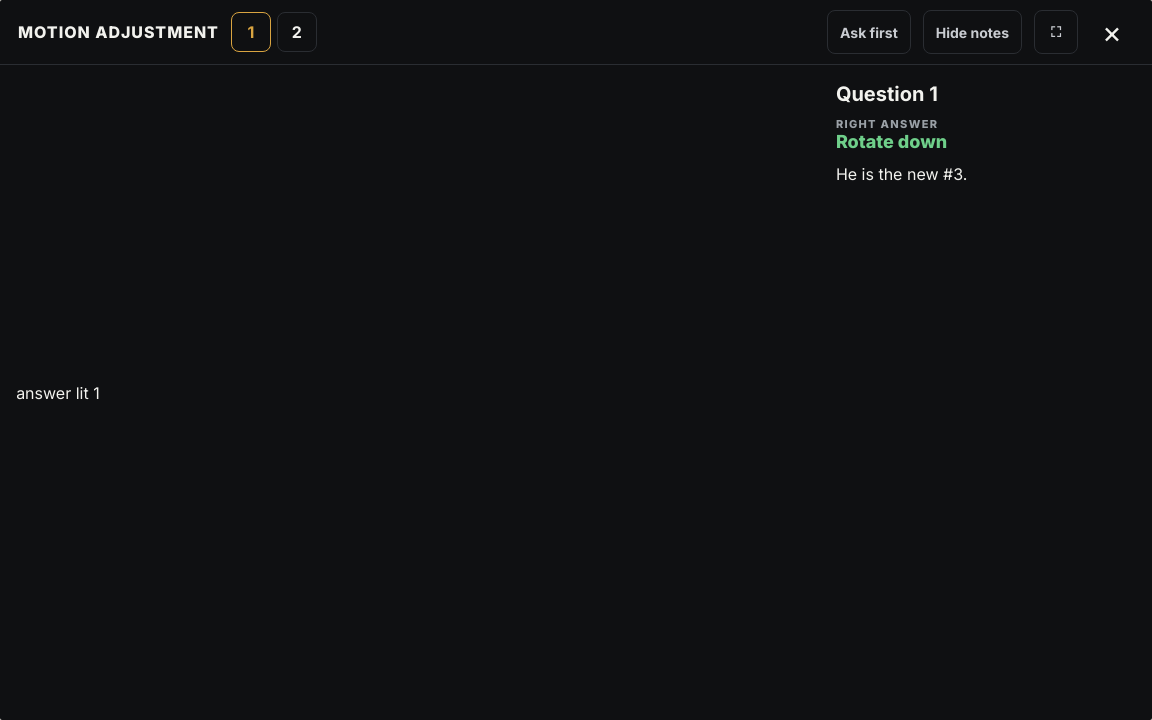
Test case: Ask first - the room check › holds the answer back - no right answer, no reason, no lit spot - until the coach shows it
The width and height of the screenshot is (1152, 720).
Click the button "Ask first" at {"x": 869, "y": 32}, box [827,10,911,54]
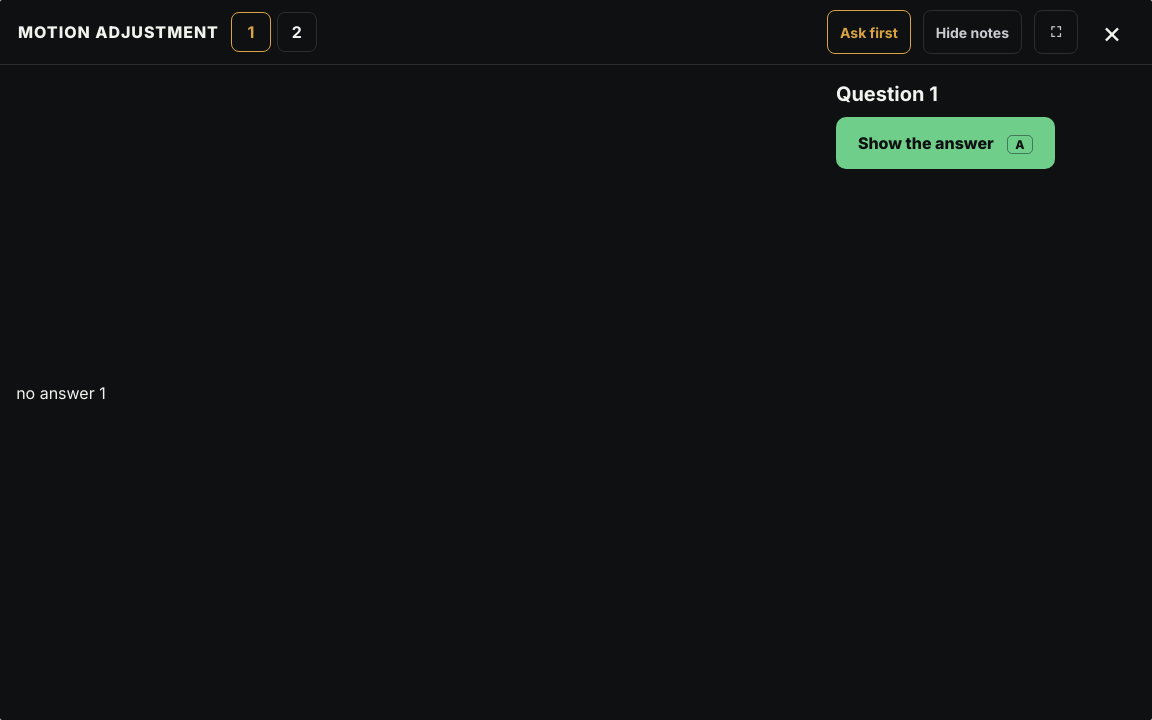
Check: the text "Rotate down" is gone
Check: the text "He is the new #3." is gone
Check: the text with test id "picture" reads "no answer 1", box [16,382,106,402]
Click the button "Show the answer A" at {"x": 945, "y": 144}, box [836,118,1054,170]
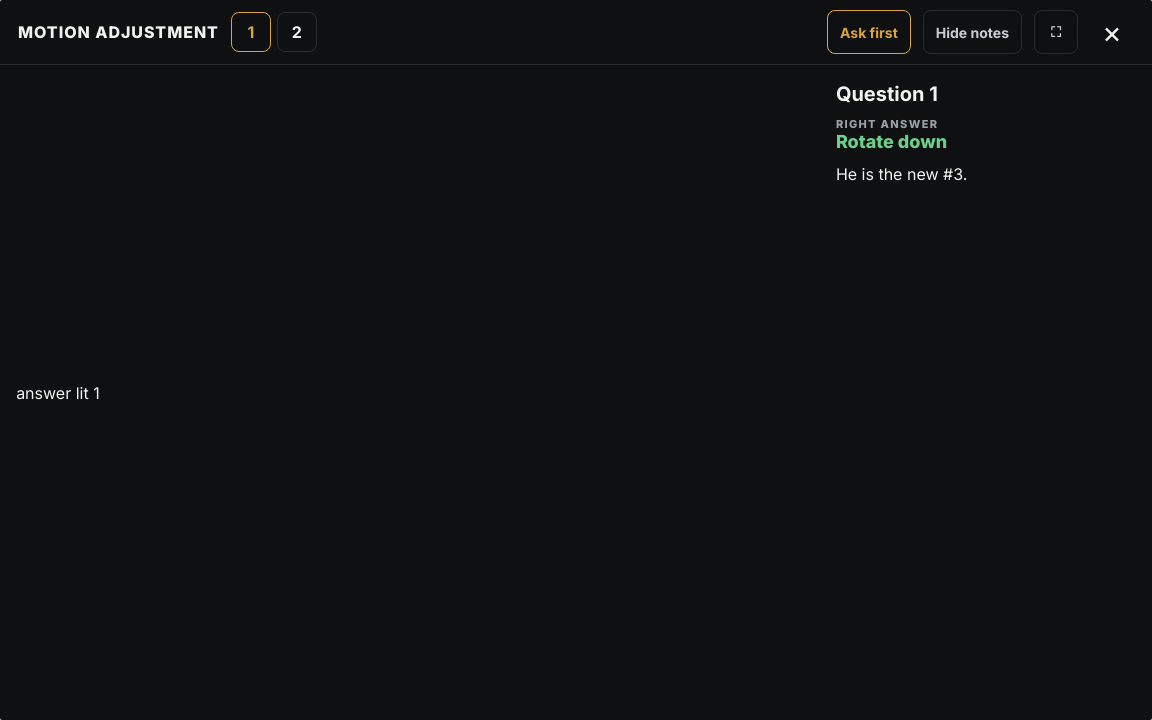
Check: the text "Rotate down" is shown, box [836,132,947,152]
Check: the text "He is the new #3." is shown, box [836,164,967,184]
Check: the text with test id "picture" reads "answer lit 1", box [16,382,100,402]
The next slide starts held back again.
Press ArrowRight in the dialog named "Teach"
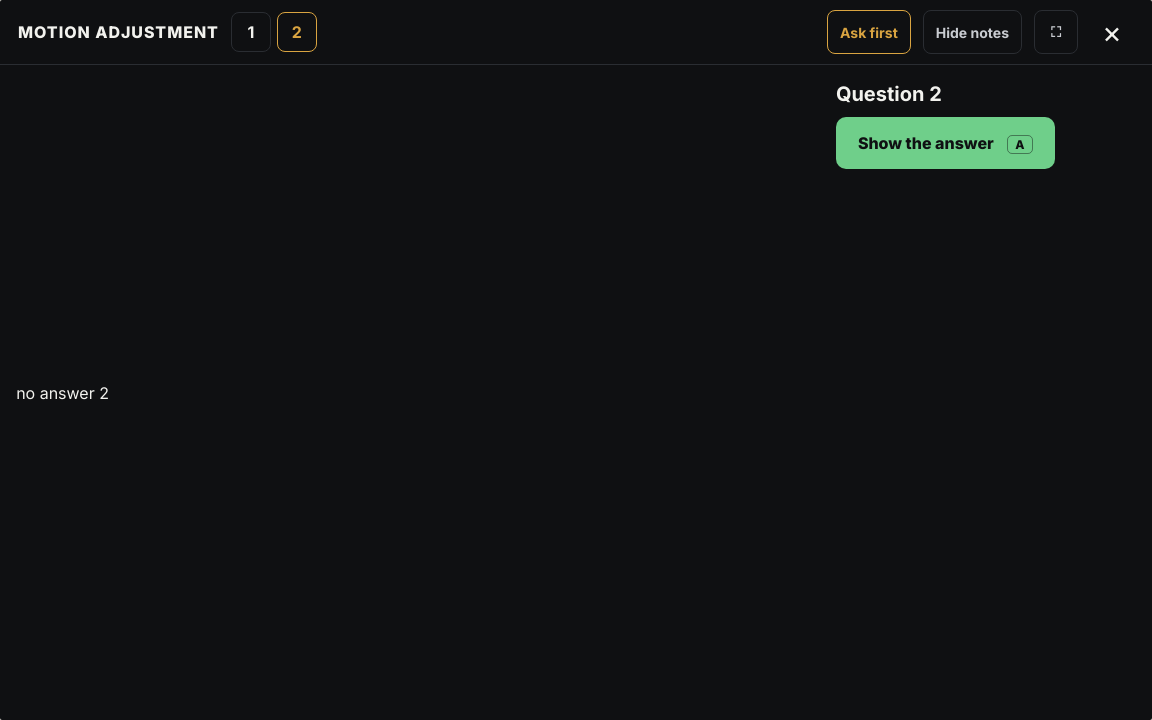
Check: the text with test id "picture" reads "no answer 2", box [16,382,109,402]
Check: the text "Rotate down" is gone
A shows it, from the keyboard.
Press a in the dialog named "Teach"
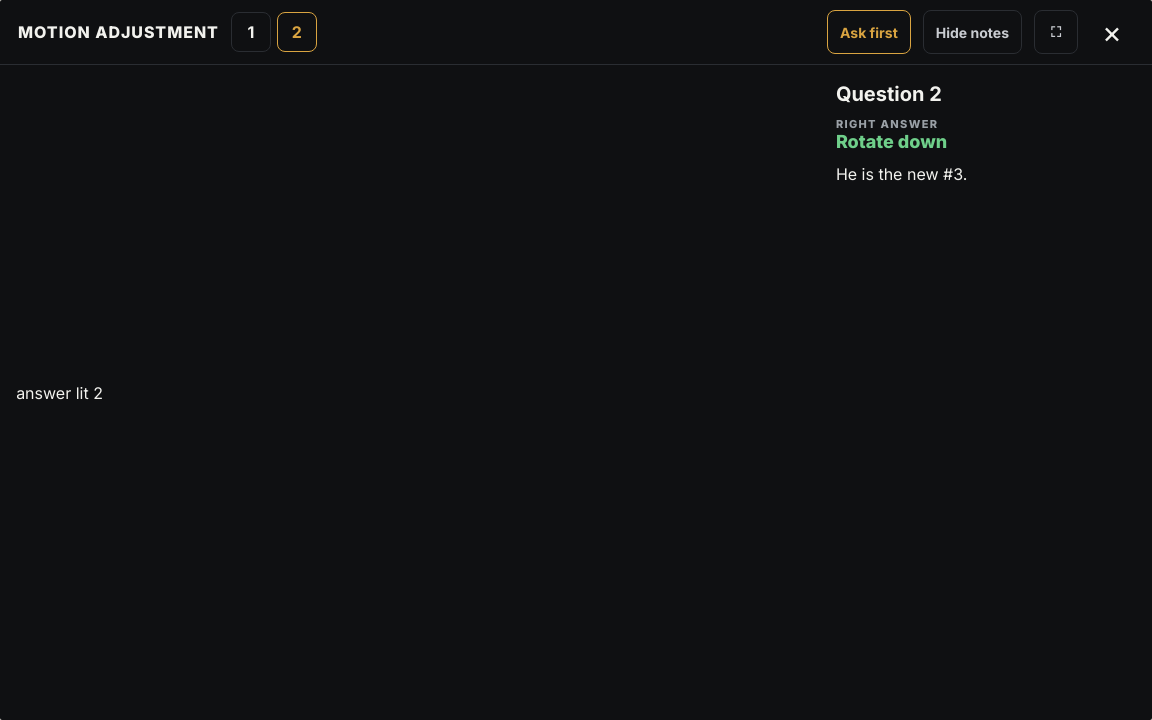
Check: the text "Rotate down" is shown, box [836,132,947,152]
